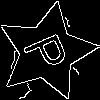P: (21, 27, 78, 76)
